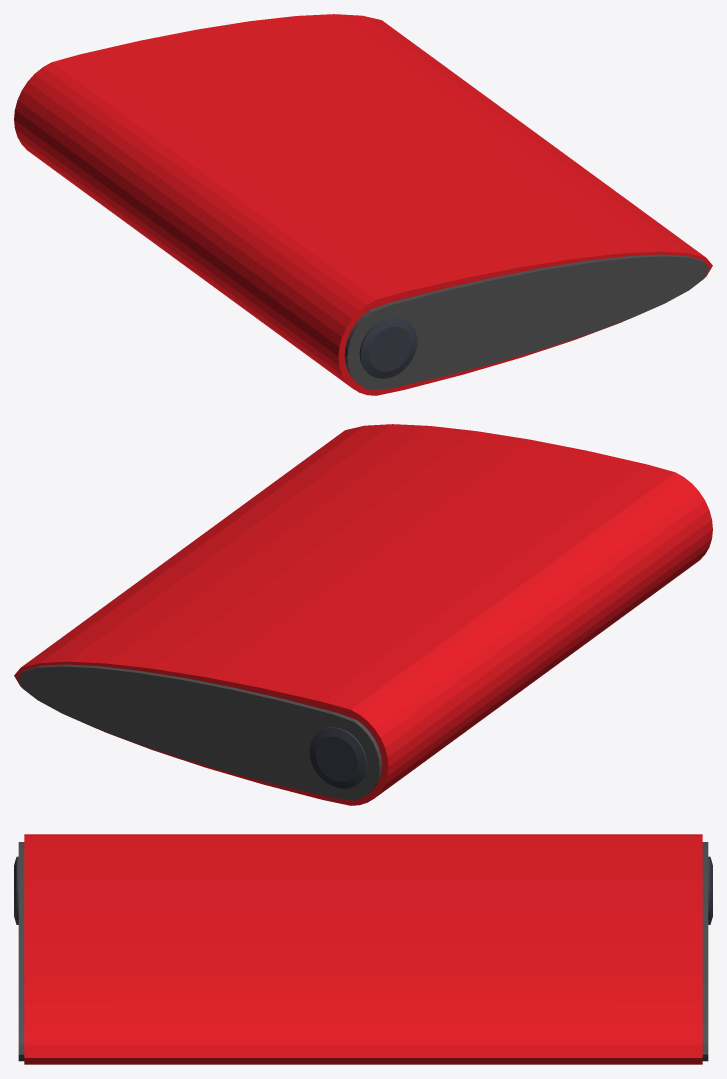
File: Flipper.fbx
The picture shows the model from 3 angles, top to bottom: view 1: azimuth 30°, elevation 25°; view 2: azimuth 150°, elevation 25°; view 3: azimuth 270°, elevation 25°; orthographic projection. The views are drawn at different scales.
Parts seen in each view (by area): view 1: Cylinder; view 2: Cylinder; view 3: Cylinder.
Part boxes in pixels (x1,y1,x2,y2): Cylinder: [14, 14, 712, 395]; Cylinder: [14, 424, 712, 805]; Cylinder: [14, 834, 712, 1064].
Size of the model in its own units: 200 by 49.96 by 309.
